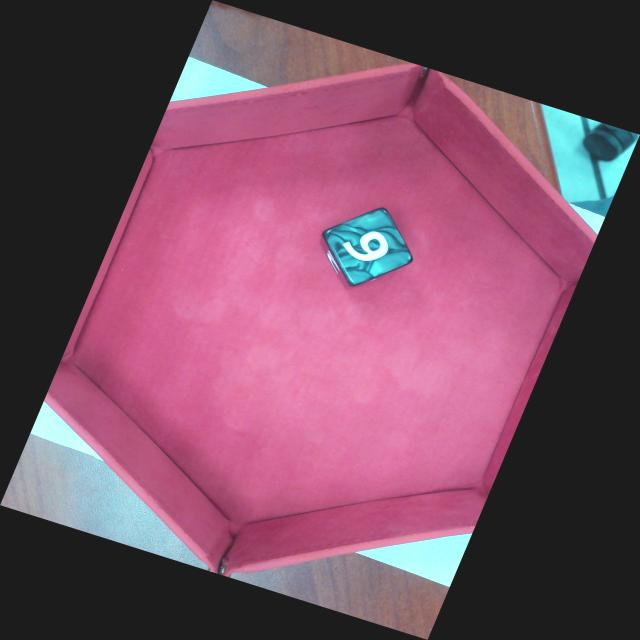dice: (323, 208, 414, 287)
